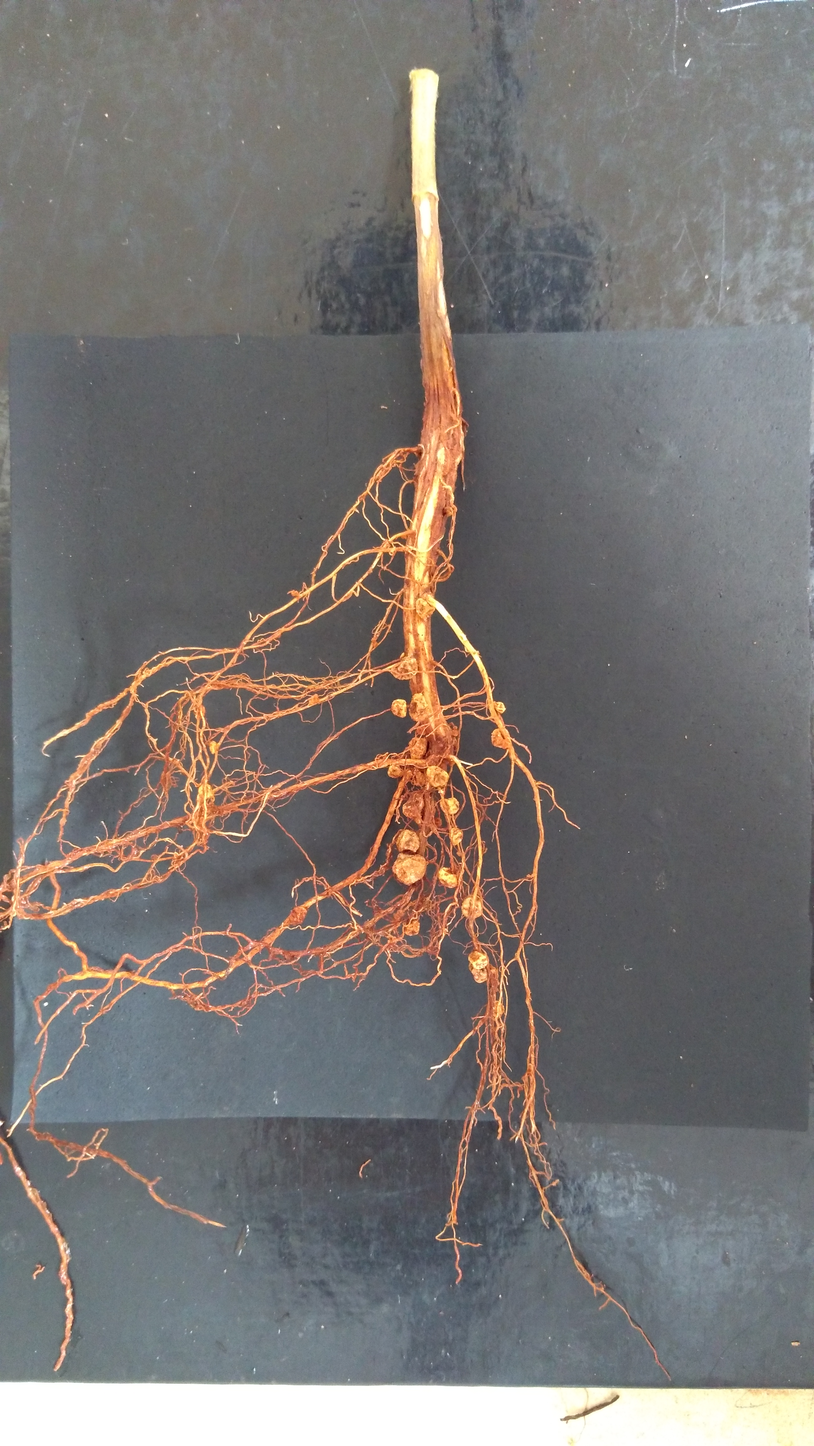nodule: (392, 853, 428, 886), (402, 793, 424, 828), (408, 692, 433, 722), (389, 658, 419, 680), (395, 829, 421, 853), (437, 865, 461, 888), (414, 597, 436, 621), (407, 736, 428, 761), (426, 765, 449, 787), (461, 895, 483, 918), (467, 961, 490, 983), (491, 727, 512, 749), (467, 949, 489, 970), (195, 783, 215, 806), (288, 906, 307, 926), (439, 797, 460, 815), (390, 699, 408, 718), (408, 767, 426, 786), (403, 919, 421, 936), (449, 825, 463, 846), (487, 963, 499, 986), (492, 999, 505, 1020), (386, 763, 402, 779), (492, 700, 507, 714), (445, 502, 458, 517), (392, 909, 405, 921), (194, 705, 206, 718), (430, 817, 444, 828), (309, 693, 321, 705), (208, 739, 217, 754), (386, 936, 398, 946), (416, 724, 426, 735), (57, 817, 66, 826), (451, 728, 459, 737), (290, 590, 299, 597), (370, 636, 378, 643), (456, 849, 463, 857), (400, 534, 408, 540), (371, 641, 378, 647), (453, 725, 458, 730)
